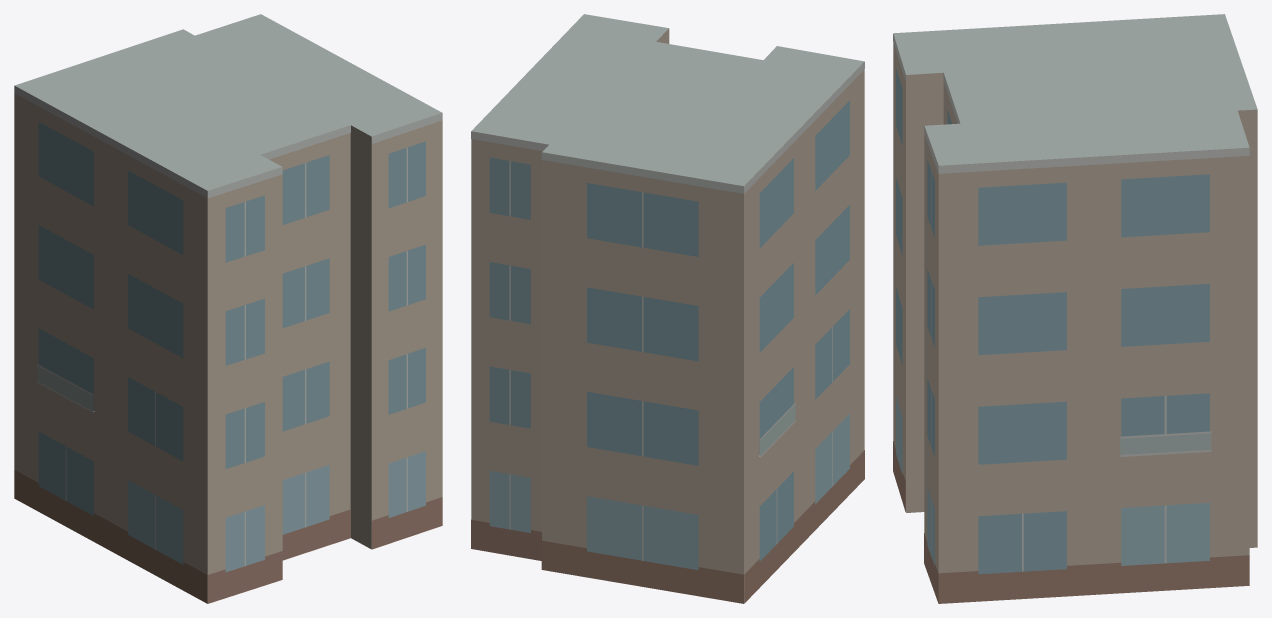
Rendered from survey-upis-32543040.glb.
3 views of the same model, side by side, from view 1: azimuth 30°, elevation 25°; view 2: azimuth 150°, elevation 25°; view 3: azimuth 270°, elevation 25° (orthographic). The views are drawn at different scales.
Parts seen in each view (by area): view 1: survey-upis-32543040.tmp; view 2: survey-upis-32543040.tmp; view 3: survey-upis-32543040.tmp.
Part boxes in pixels (box(x1,y1,x2,y2)): survey-upis-32543040.tmp: box(14, 14, 442, 603); survey-upis-32543040.tmp: box(471, 14, 864, 603); survey-upis-32543040.tmp: box(893, 14, 1257, 603).
Bounding box in the file's own units: 9.91 × 13.32 × 10.06.
